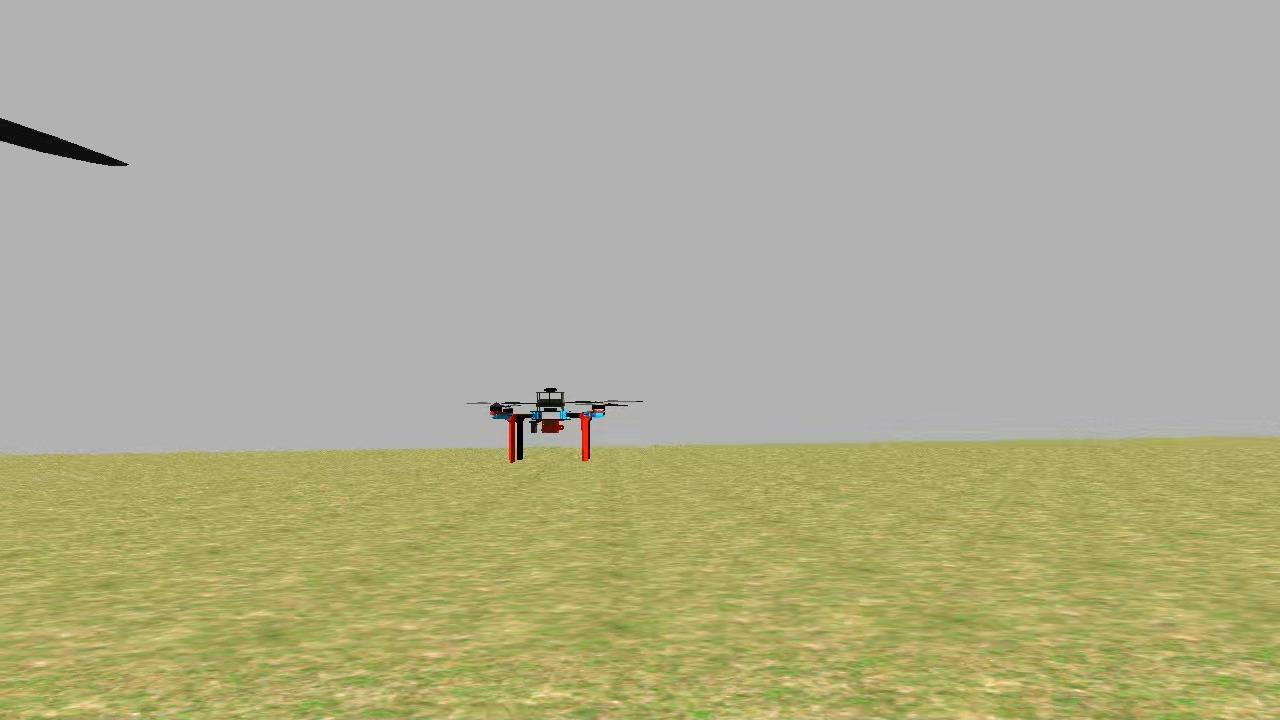UAV: (486, 380, 614, 470)
